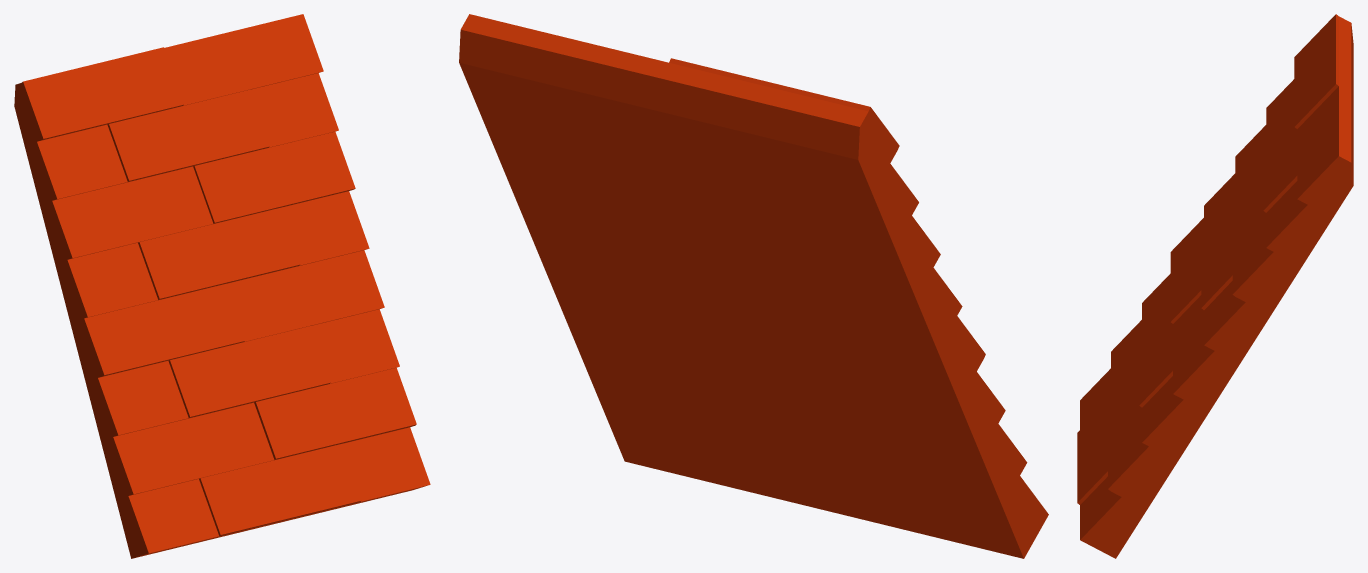
File: Building_Facade_Modular_Roof_07.fbx
3 views of the same model, side by side, from view 1: azimuth 30°, elevation 25°; view 2: azimuth 150°, elevation 25°; view 3: azimuth 270°, elevation 25° (orthographic). The views are drawn at different scales.
Visible parts, largest first — view 1: Building_Facade_Modular_Roof_07; view 2: Building_Facade_Modular_Roof_07; view 3: Building_Facade_Modular_Roof_07.
Boxes of the visible parts, x1,y1,x2,y2 form: Building_Facade_Modular_Roof_07: [14, 14, 430, 558]; Building_Facade_Modular_Roof_07: [459, 14, 1048, 558]; Building_Facade_Modular_Roof_07: [1077, 14, 1353, 558].
Size of the model in its own units: 1868 by 2523 by 1561.
